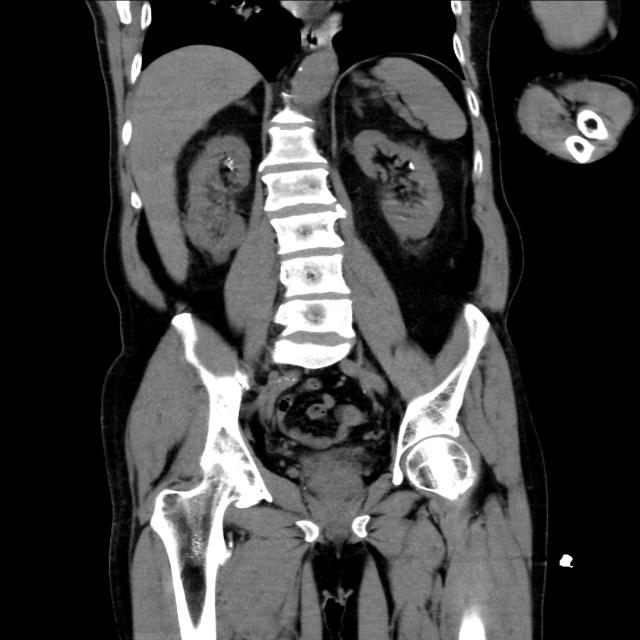kidneystone: (404, 159, 415, 169)
